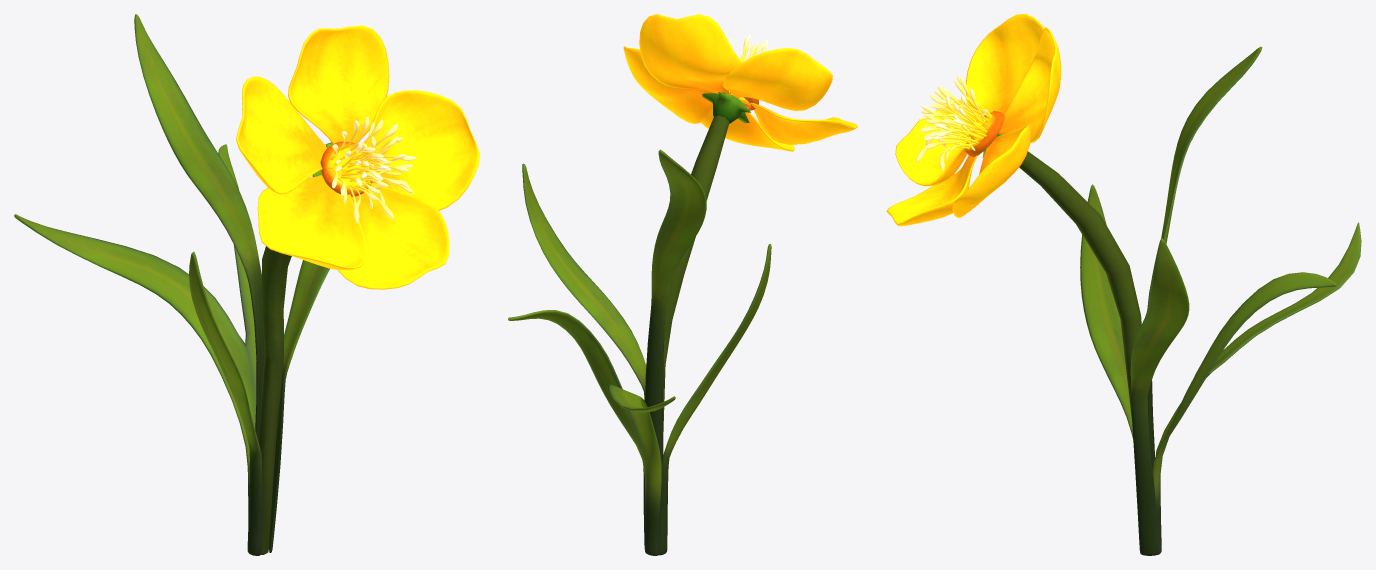
File: flower.glb
3 renders of one model, left to right at view 1: azimuth 30°, elevation 25°; view 2: azimuth 150°, elevation 25°; view 3: azimuth 270°, elevation 25°, orthographic. The views are drawn at different scales.
Parts seen in each view (by area): view 1: Yellow Flower; view 2: Yellow Flower; view 3: Yellow Flower.
Boxes of the visible parts, bbox=[...] form: Yellow Flower: bbox=[14, 14, 479, 555]; Yellow Flower: bbox=[508, 14, 857, 555]; Yellow Flower: bbox=[886, 14, 1361, 555].
Bounding box in the file's own units: 0.2844 × 0.5514 × 0.4523.
Materials: 1 (1 with a texture image).
